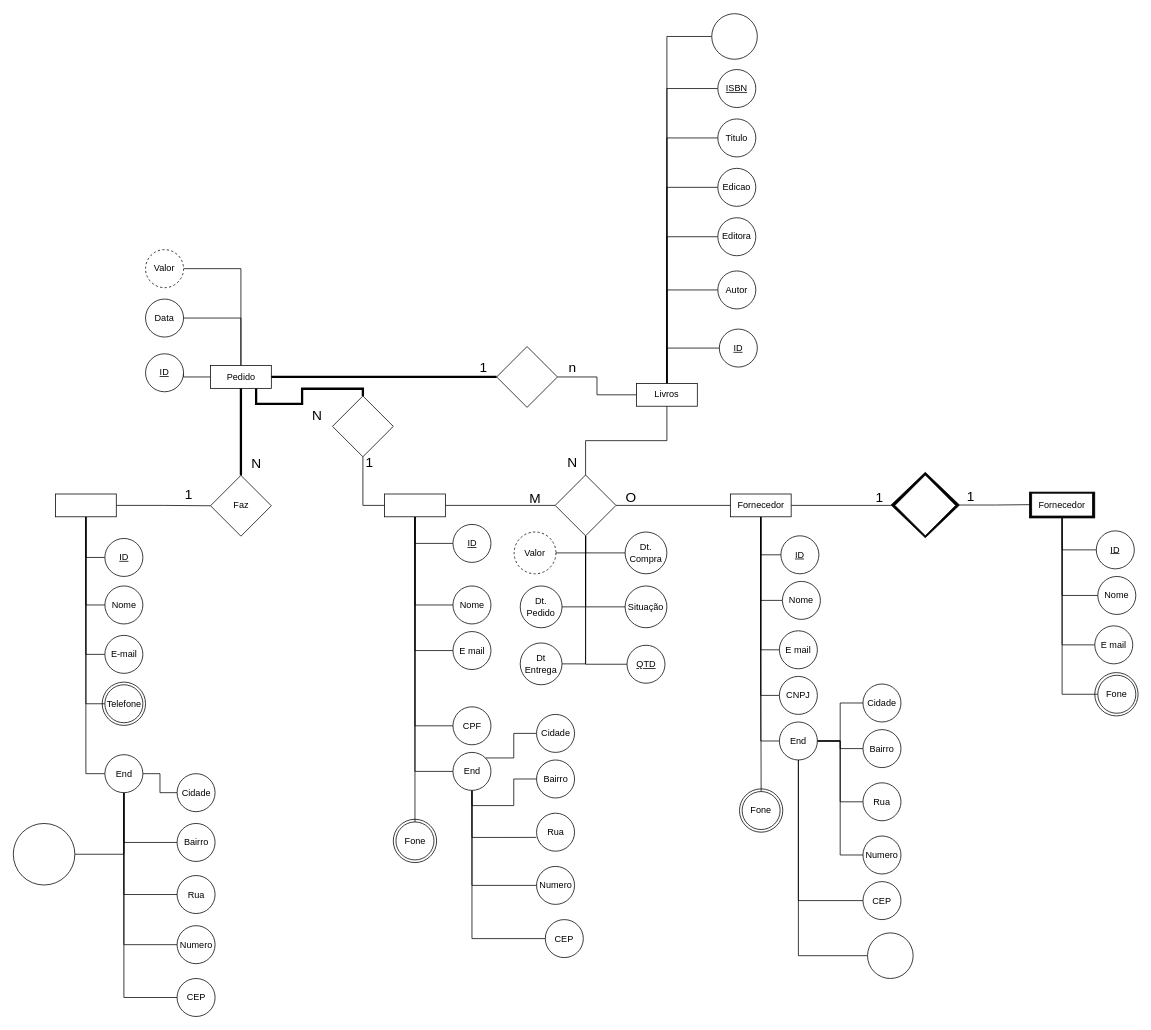
The diagram is 1151 pixels wide and 1030 high, and some of its shapes have lost their labels. The shapes that lost their labels are listed below. From the top down, each one's centre as x and y in pixels, then its label:
At pixel 734 36: "Categoria".
At pixel 526 376: "Contem".
At pixel 362 426: "Recebe".
At pixel 85 505: "Cliente".
At pixel 414 505: "Funcionario".
At pixel 585 505: "Compra".
At pixel 925 505: "Contato fornecedor".
At pixel 44 854: "Complemento".
At pixel 890 955: "Dt cadastro".
